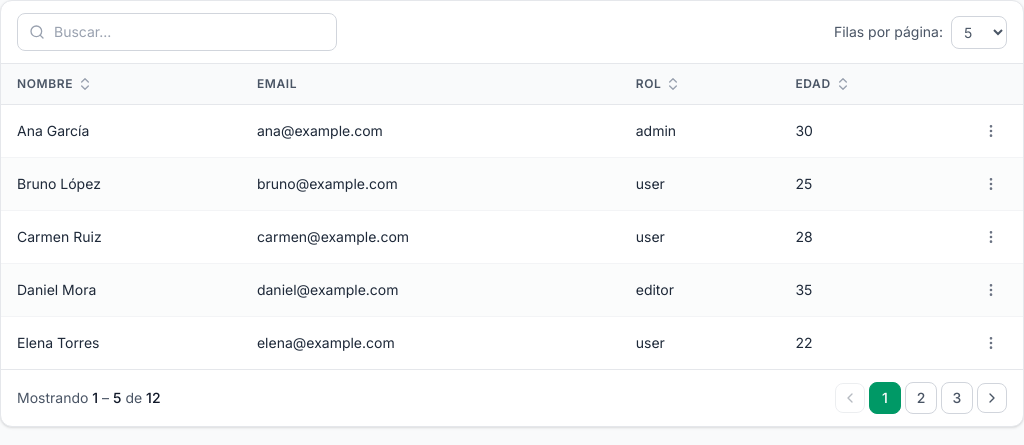
it: DataTable — Menú de acciones por fila › deshabilita una acción cuando disabled() retorna true
This screenshot has width=1024, height=445.
// La primera fila es Ana García que sí está activa — botón deshabilitado.
Click the button named "abrir menú de acciones" in the row of "Ana García" at (991, 131), box [977,117,1005,145]
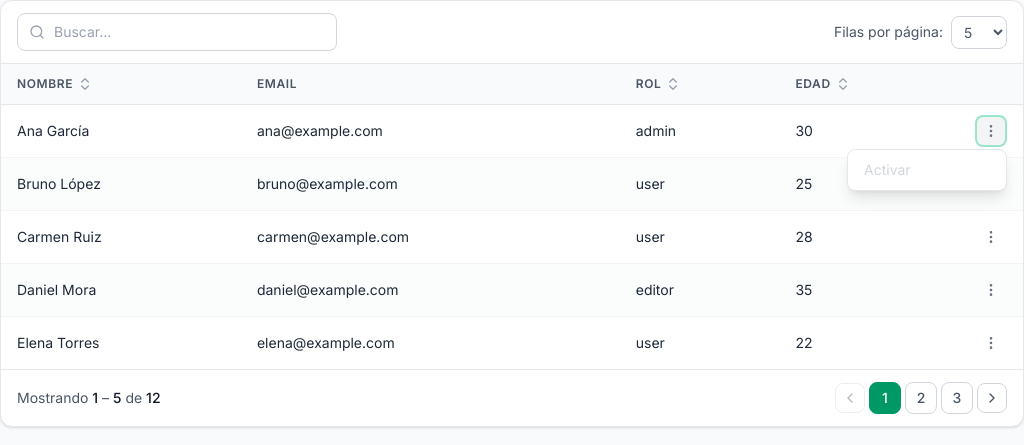
Check: the menu item "Activar" is disabled, box [848,150,1006,190]
